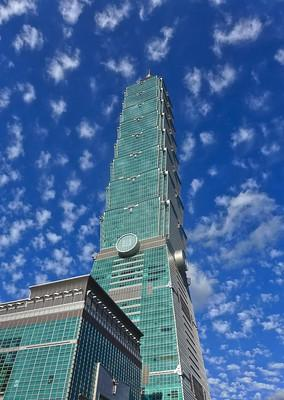building: (91, 74, 210, 400)
